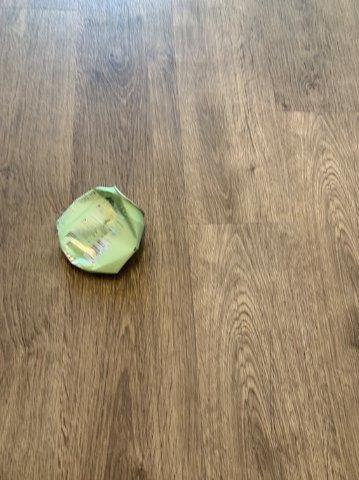kaleng: (58, 187, 143, 274)
